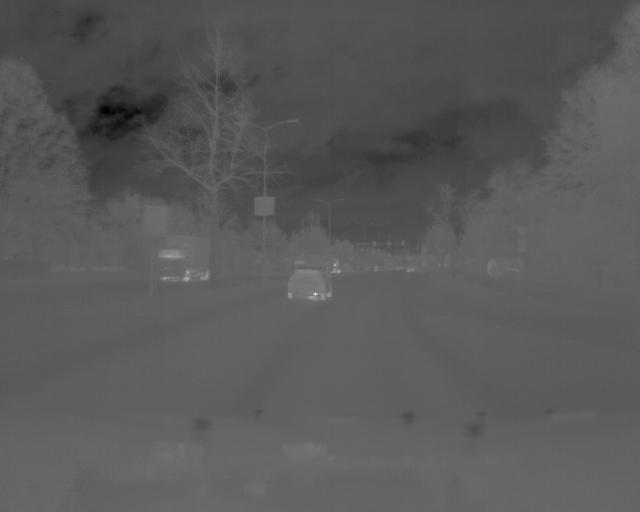car: (155, 232, 212, 286), (287, 267, 337, 304)
